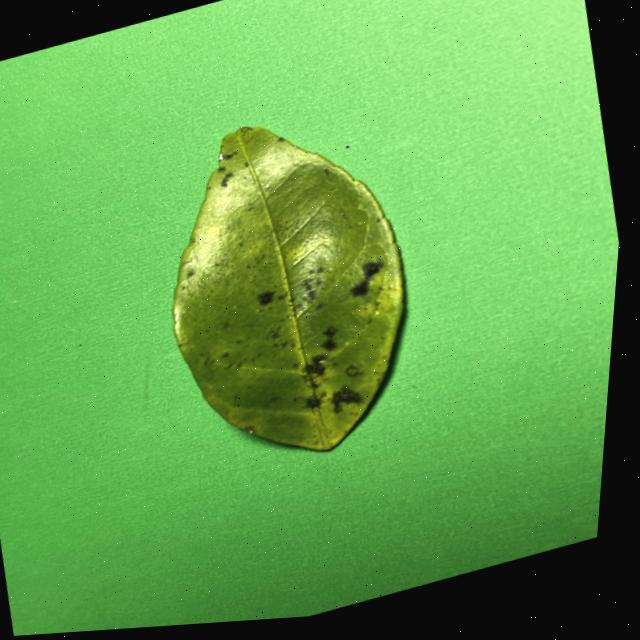sooty_mold: (173, 126, 403, 448)
